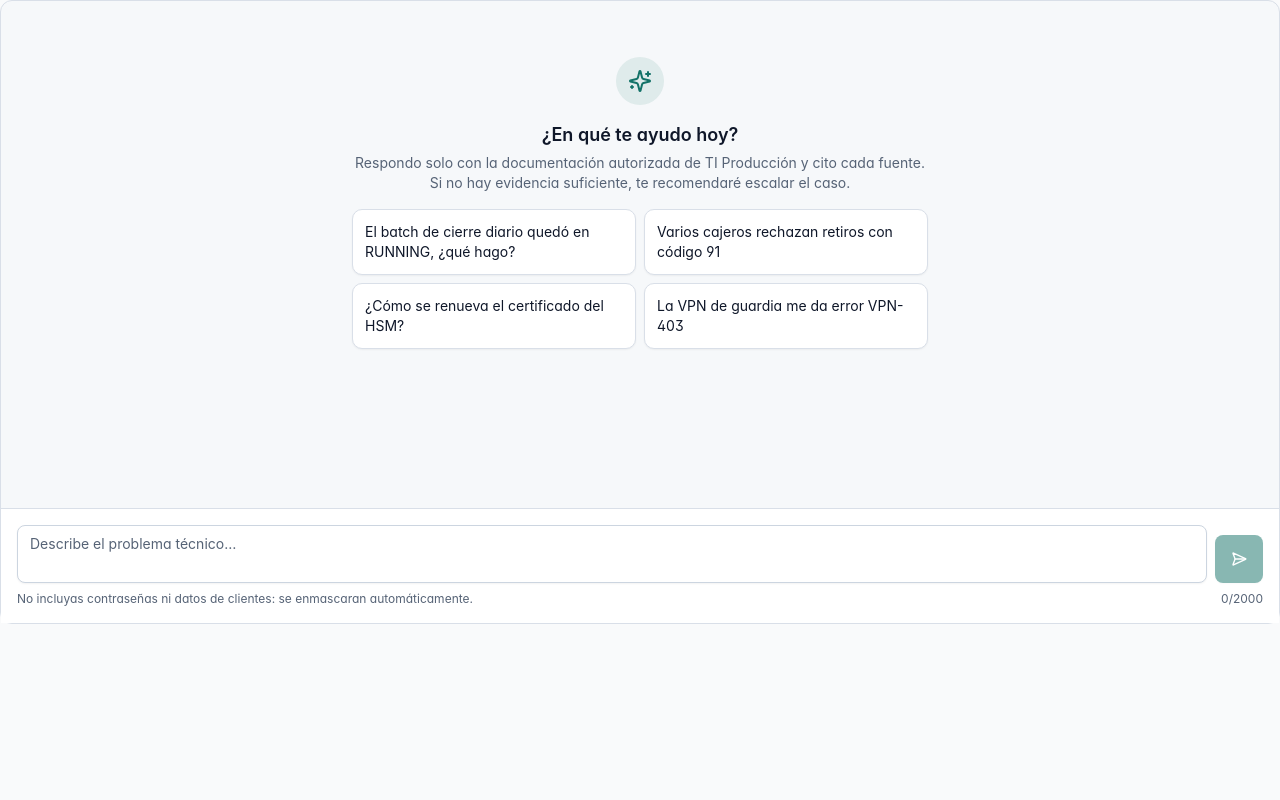
it: ChatInterface › envía la pregunta y muestra respuesta, citas, fuentes y métricas
This screenshot has width=1280, height=800.
Type "El batch quedó en RUNNING" into the text box named "Escribe tu consulta" at (612, 554), box [17,525,1207,583]
Then press Enter
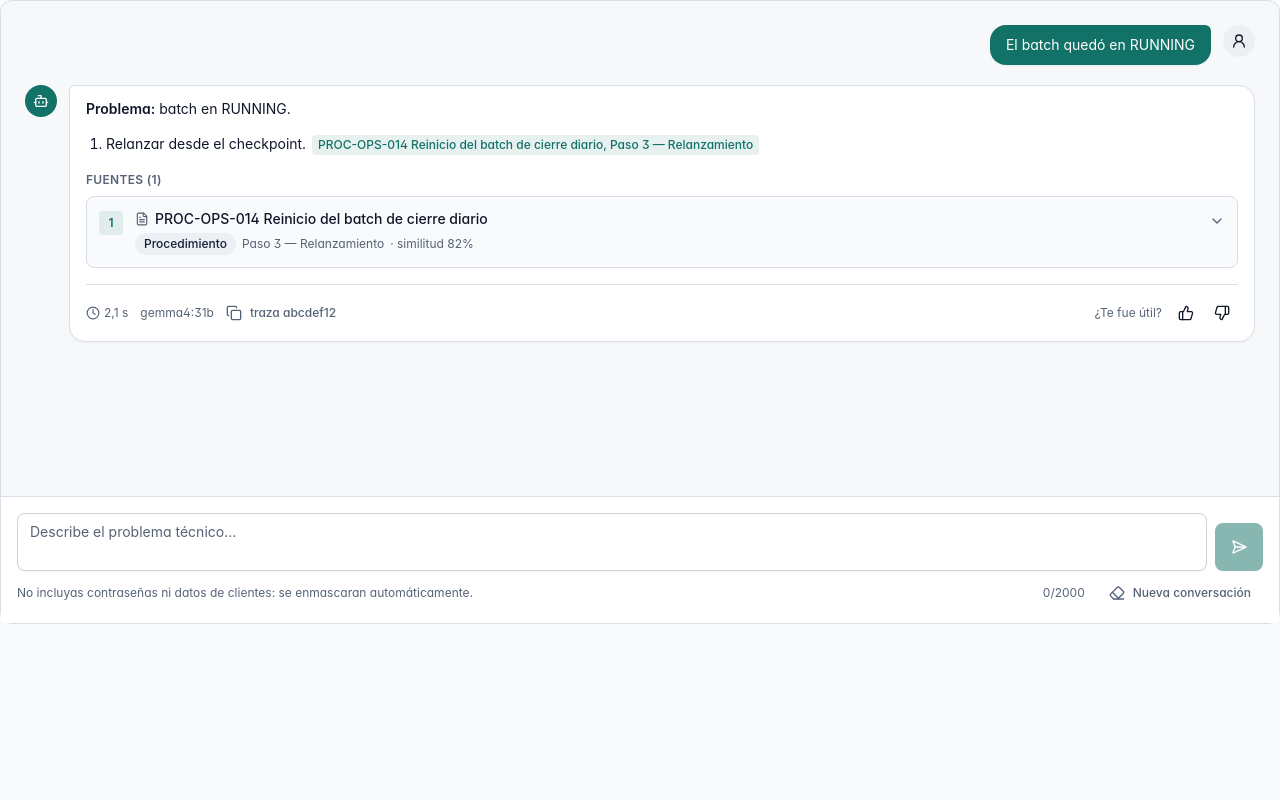
Expected: the list item "Relanzar desde el checkpoint" is shown, [106,135,310,152]
Expected: the element named "Fuentes consultadas" shows "Paso 3 — Relanzamiento", [87,196,1237,266]
Expected: the text "2,1 s" is shown, [86,304,128,320]
